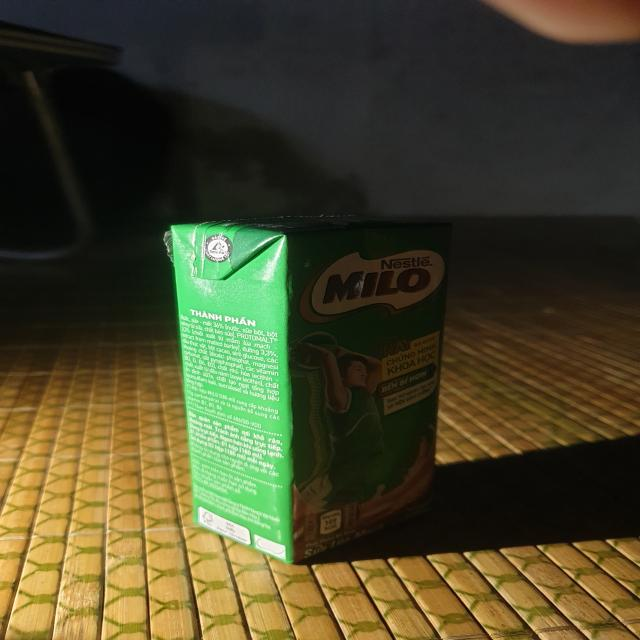Milo: (179, 217, 455, 564)
